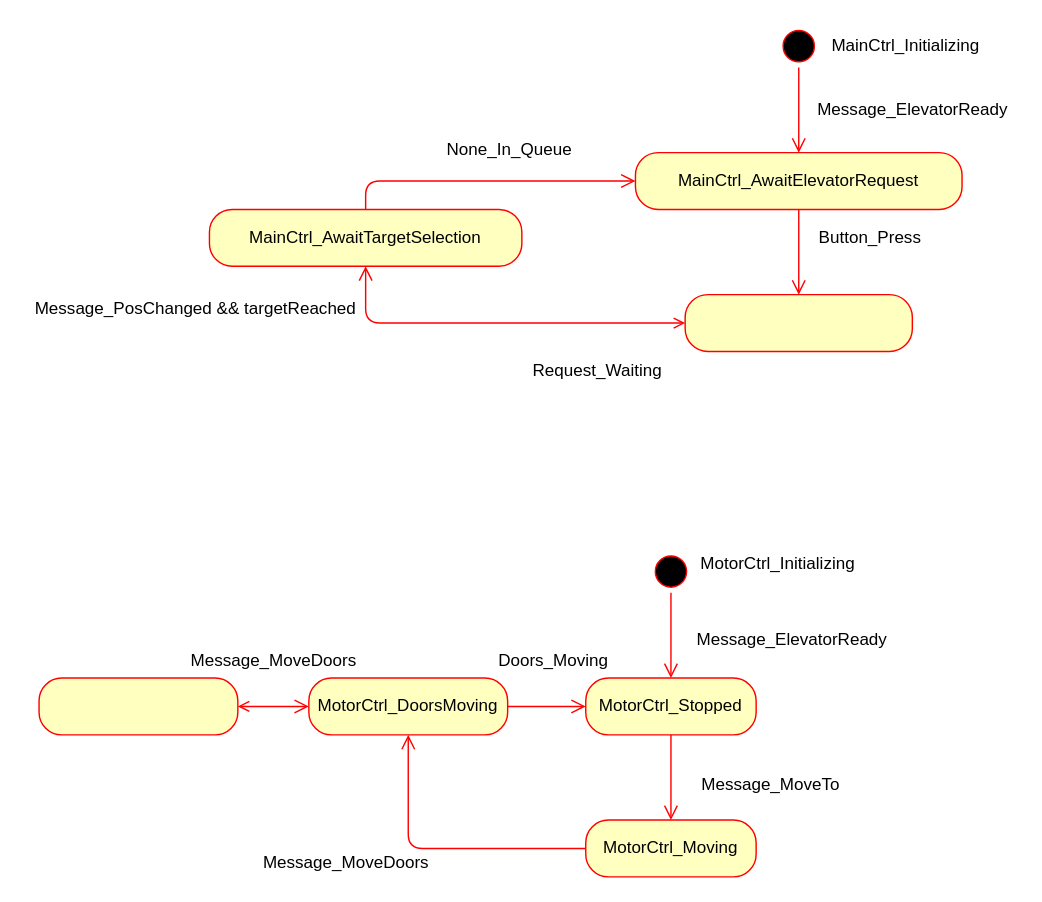
Some shapes in this 1042 by 902 pixel diagram are drawn without their labels. The shapes that lost their labels are listed below. From the top down, each one's box as (x1, y1, x2, y2) in pixels, then its label:
(684, 293, 912, 351): MainCtrl_ElevatorMoving
(38, 677, 238, 735): MotorCtrl_DoorsOpened
